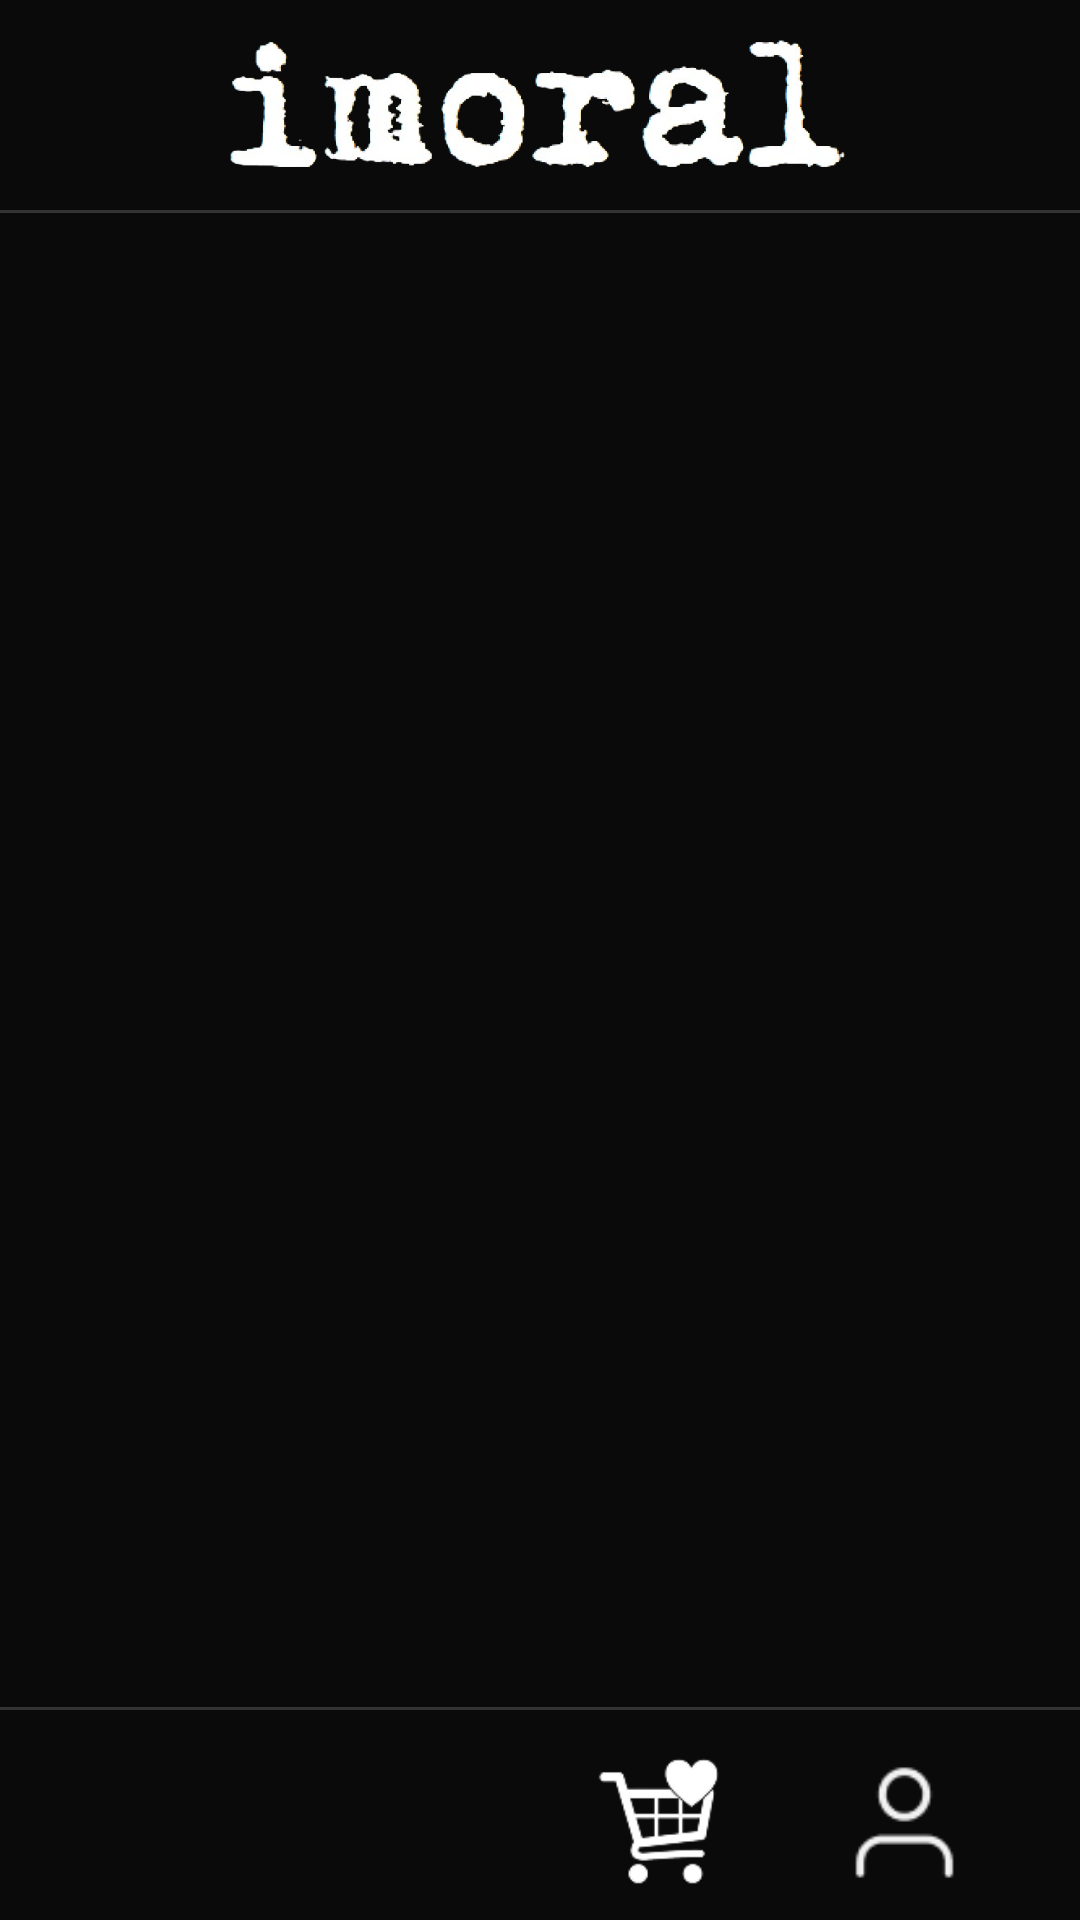

Screen size 1080 × 1920. Icon name, then its center in pixels as [x,y]:
cart heart: [658,1821]
user: [904,1822]
